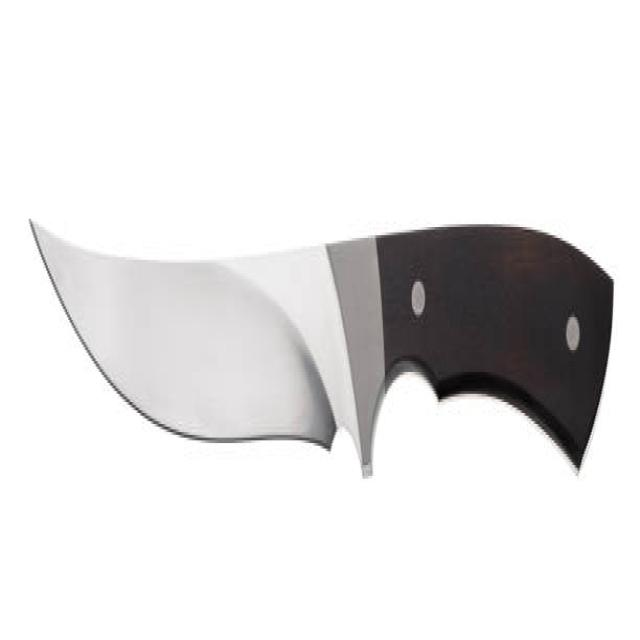knife: (27, 192, 617, 512)
